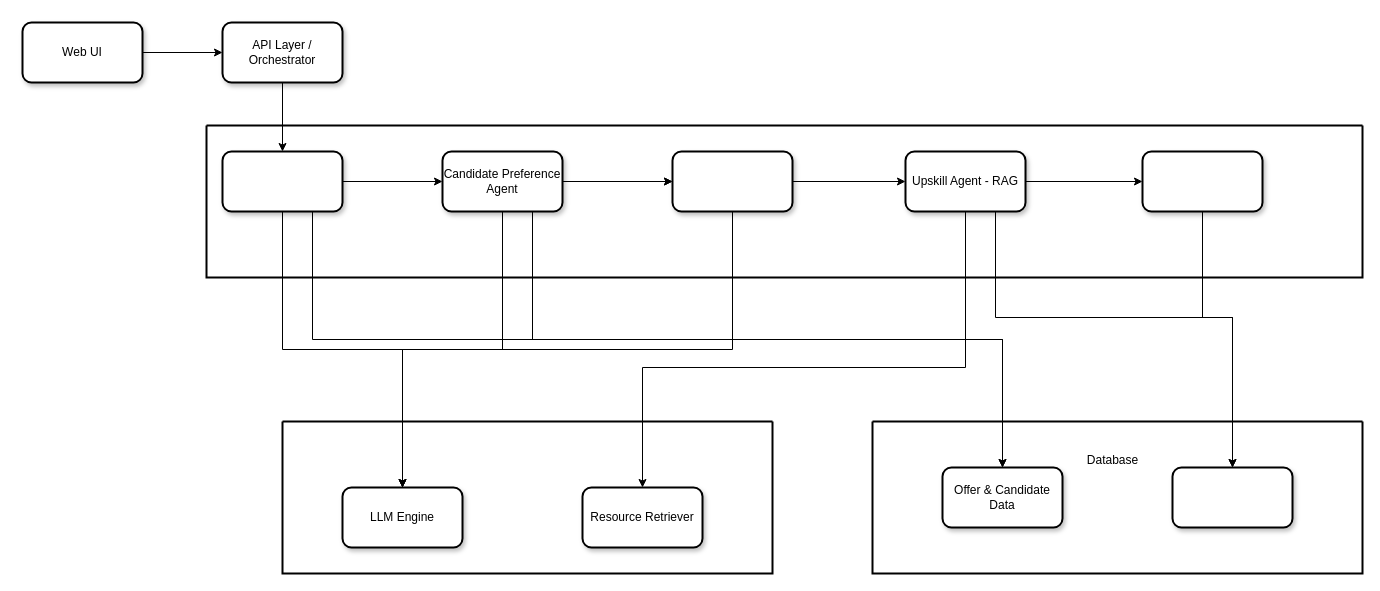
Some shapes in this 1380 by 591 pixel diagram are drawn without their labels. The shapes that lost their labels are listed below. From the top down, each one's centre as x and y in pixels, then its label:
At [283,182]: "Offer Analyzer Agent".
At [733,182]: "Acceptance Likelihood Agent".
At [1203,182]: "Dashboard Agent".
At [1233,498]: "Predictions & Resources".
